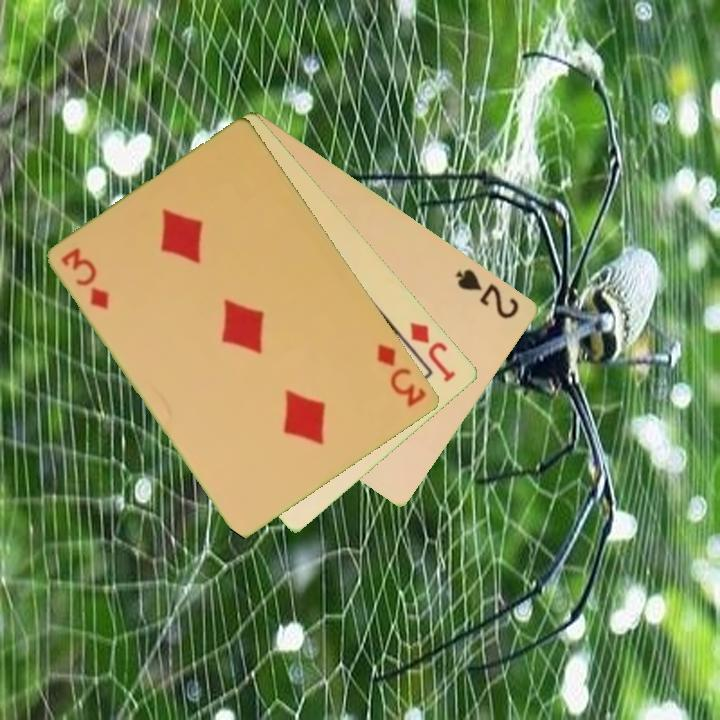2s: (452, 265, 523, 322)
3d: (373, 340, 430, 410), (57, 244, 113, 313)
Jd: (407, 318, 459, 385)
